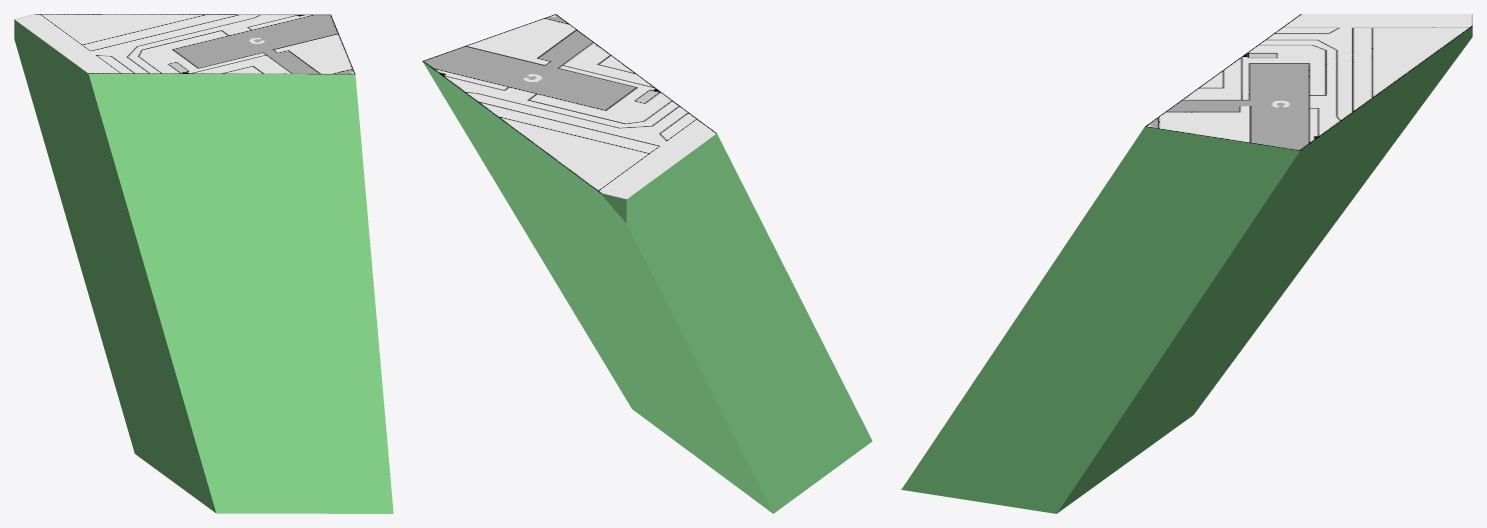
The model's file is Left_G.glb.
3 views of the same model, side by side, from view 1: azimuth 30°, elevation 25°; view 2: azimuth 150°, elevation 25°; view 3: azimuth 270°, elevation 25° (orthographic). The views are drawn at different scales.
Visible parts, largest first — view 1: Left_G; view 2: Left_G; view 3: Left_G.
Part boxes in pixels (x1,y1,x2,y2): Left_G: [14, 14, 393, 513]; Left_G: [422, 14, 872, 513]; Left_G: [901, 14, 1472, 513].
Bounding box in the file's own units: 2.57 × 3.51 × 4.53.
2 materials, 1 textured.
